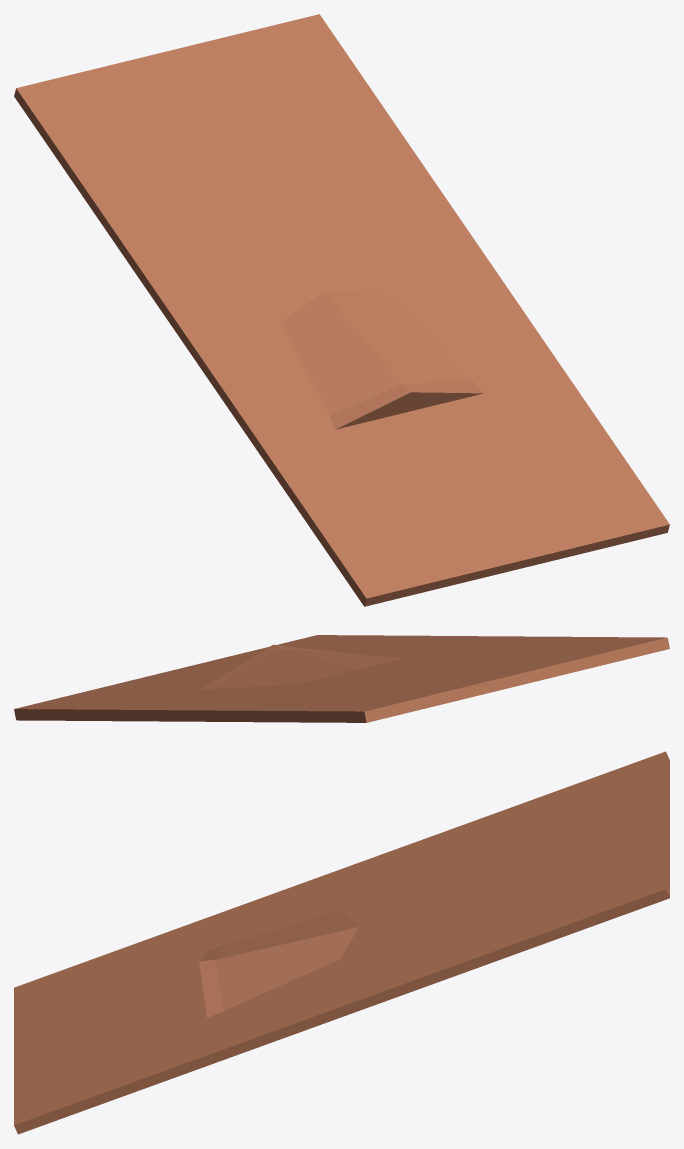
Rendered from empire-roof-big-1m-empire.glb.
3 renders of one model, top to bottom at view 1: azimuth 30°, elevation 25°; view 2: azimuth 210°, elevation 25°; view 3: azimuth 270°, elevation 25°, orthographic. The views are drawn at different scales.
Visible parts, largest first — view 1: SM_Roof_Big_1m_Empire; view 2: SM_Roof_Big_1m_Empire; view 3: SM_Roof_Big_1m_Empire.
Part boxes in pixels (x1=…): SM_Roof_Big_1m_Empire: x1=14, y1=14, x2=669, y2=606; SM_Roof_Big_1m_Empire: x1=14, y1=635, x2=669, y2=722; SM_Roof_Big_1m_Empire: x1=14, y1=751, x2=669, y2=1134.
Bounding box in the file's own units: 1.5 × 1.25 × 3.02.
